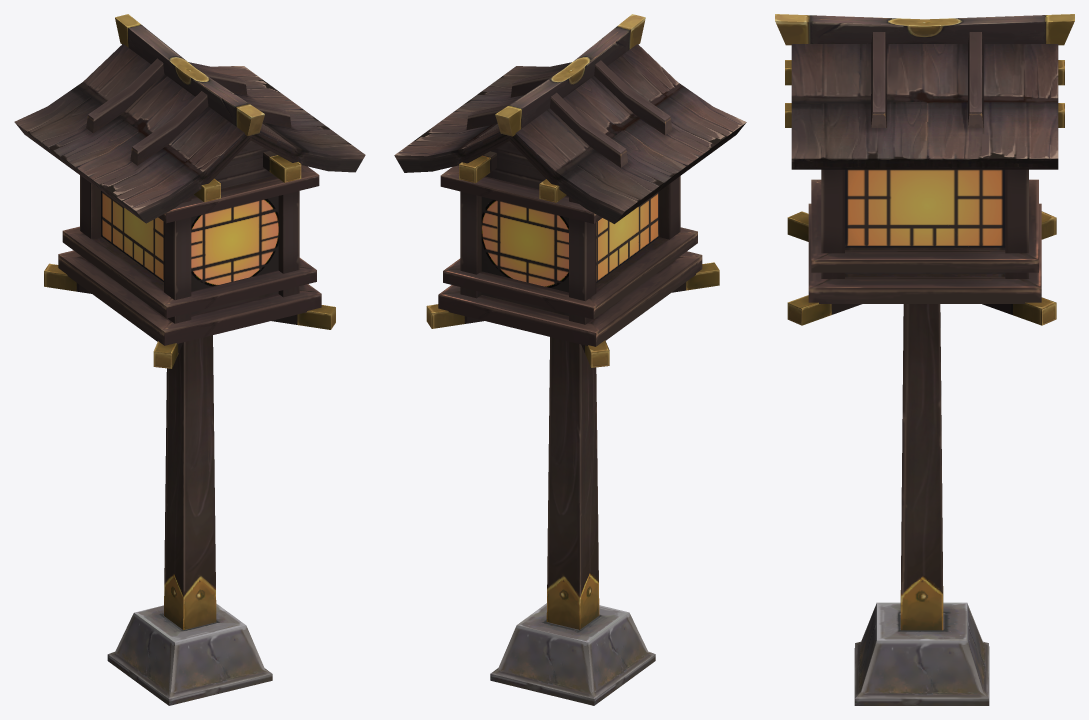
3 views of the same model, side by side, from view 1: azimuth 30°, elevation 25°; view 2: azimuth 150°, elevation 25°; view 3: azimuth 270°, elevation 25° (orthographic). The views are drawn at different scales.
Parts seen in each view (by area): view 1: MB0003_61_05; view 2: MB0003_61_05; view 3: MB0003_61_05.
Boxes of the visible parts, bbox=[...] form: MB0003_61_05: bbox=[14, 14, 365, 705]; MB0003_61_05: bbox=[394, 14, 746, 705]; MB0003_61_05: bbox=[775, 14, 1074, 705].
Size of the model in its own units: 92.99 by 234 by 95.96.
